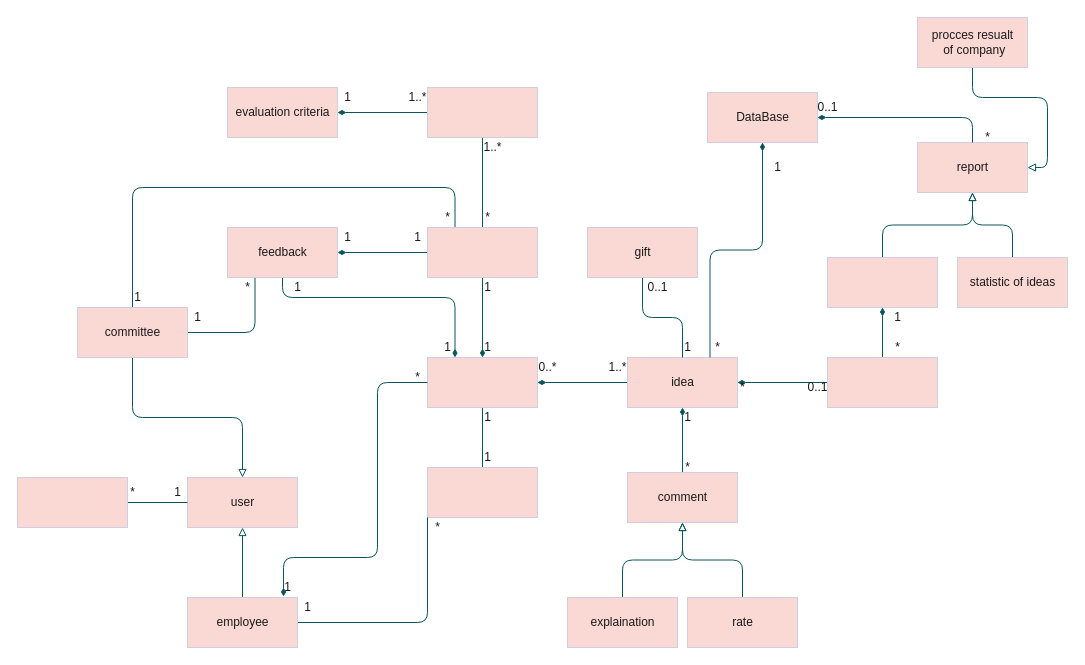
The diagram is 1085 pixels wide and 665 high, and some of its shapes have lost their labels. The centre of each missing label's shape, as x and y in pixels:
"better idea item" belongs at (882,382).
"better idea list" belongs at (882,282).
"evaluation" belongs at (482,252).
"evaluation criteria item" belongs at (482,112).
"Ideas Form" belongs at (482,492).
"login" belongs at (72,502).
"Record Idea" belongs at (482,382).
